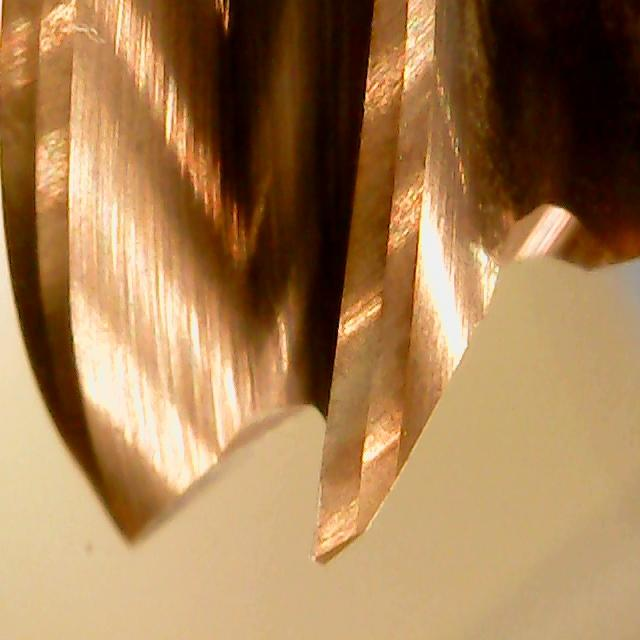Tool-wear-class-0: (303, 248, 416, 568)
